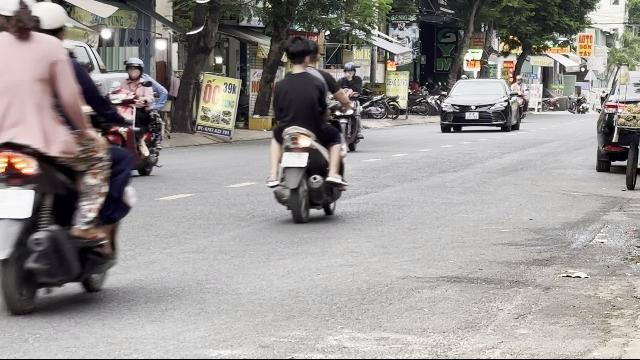helmet: (124, 56, 144, 80)
licenseplate: (282, 152, 306, 166)
motorcyclist: (262, 34, 351, 224)
nohelmet: (283, 36, 317, 70)
